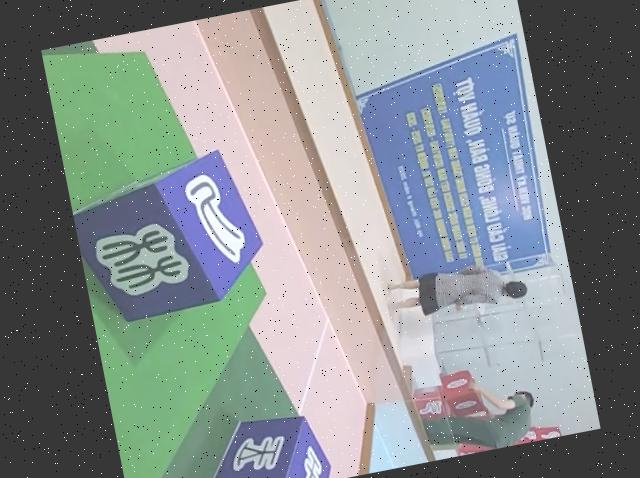R2 Fake Blue: (65, 143, 276, 331)
R2 Real Blue: (188, 404, 330, 478)
